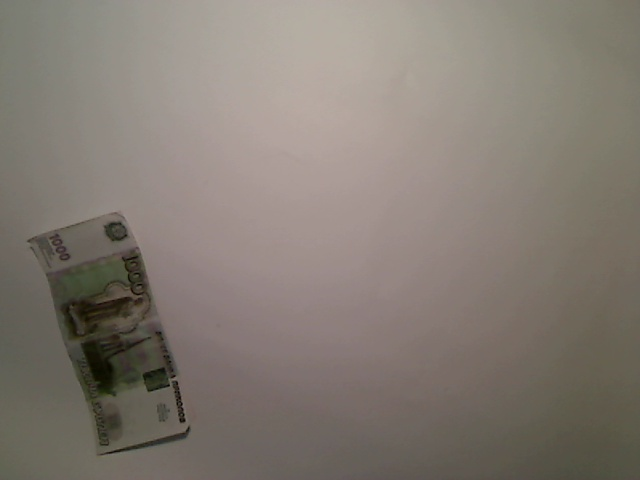banknotes: (22, 205, 193, 459)
